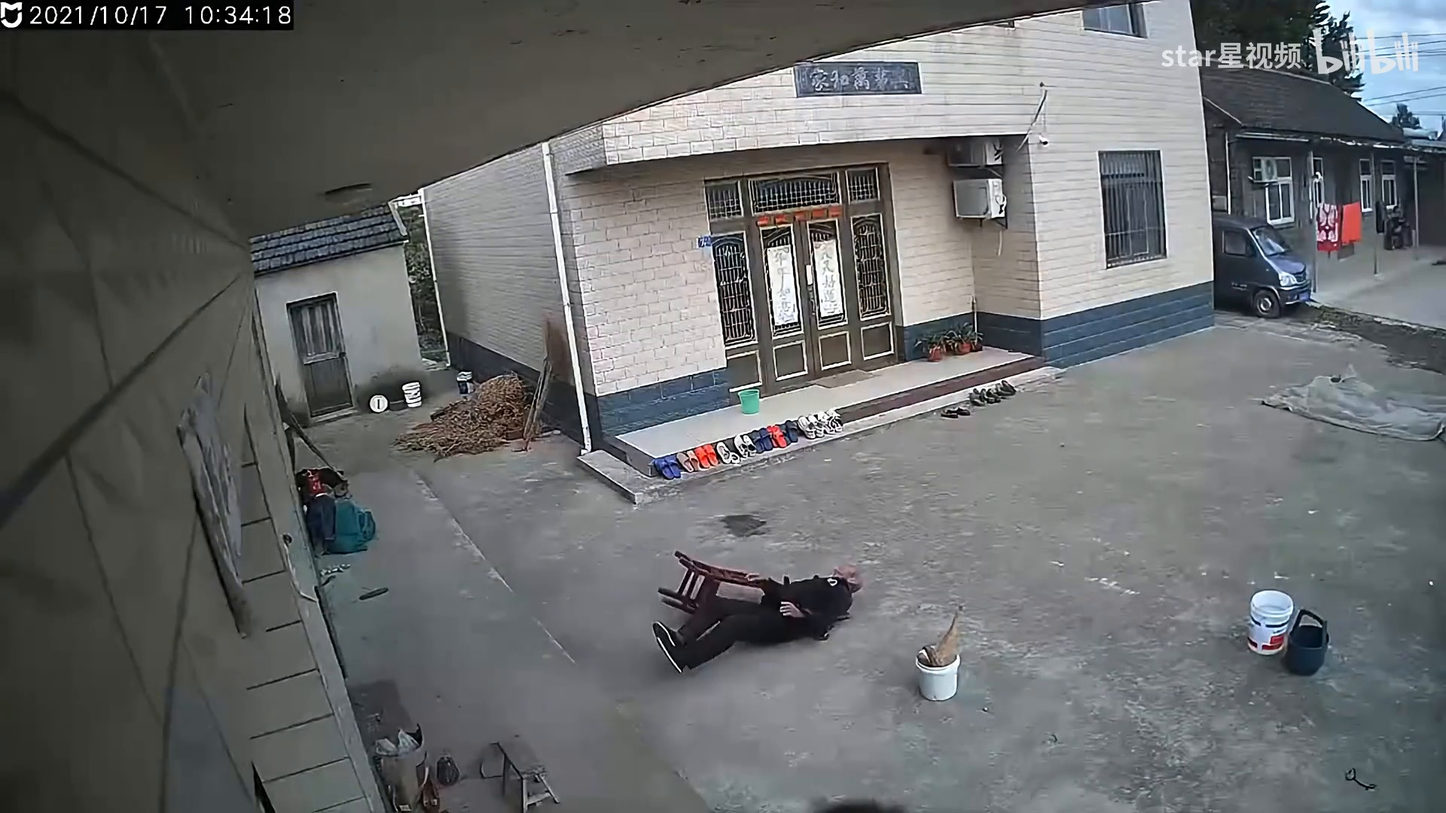fall_down: (651, 564, 864, 674)
